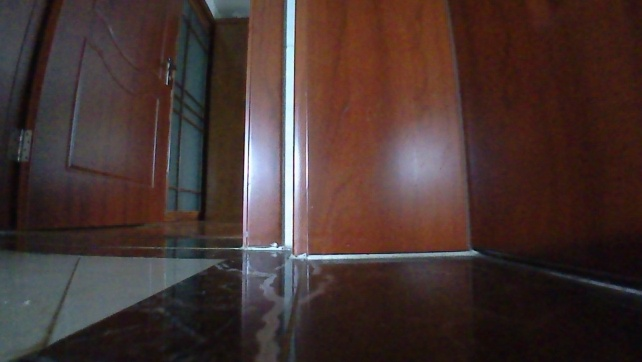door_anno: (10, 0, 185, 235)
